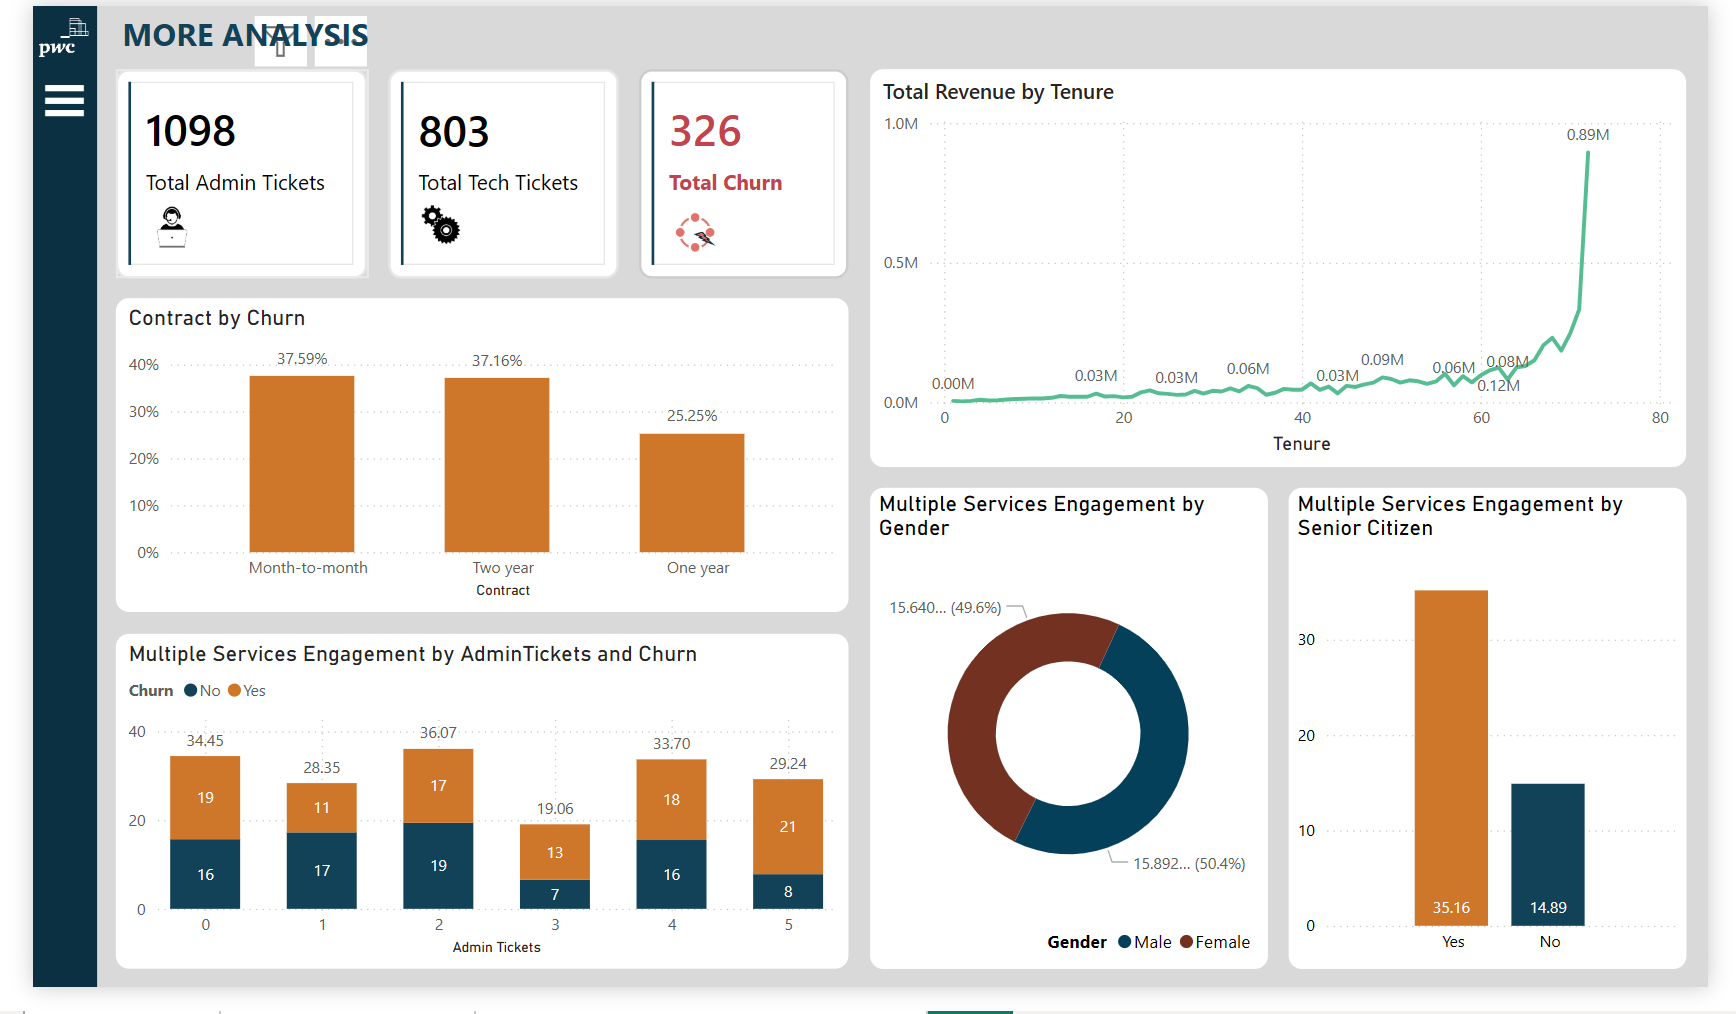

What the dashboard file says about the page in this screenshot:
{"tool":"powerbi","page":{"name":"More Analysis","canvas":[1280,750],"ordinal":1},"visuals":[{"type":"donutChart","title":"Multiple Services Engagement by Gender","fields":{"Category":["Churn Dataset.Gender"],"Y":["Churn Dataset.Multiple Services Engagement"]},"box":[640,368,304,368],"z":0},{"type":"columnChart","title":"Multiple Services Engagement by Senior Citizen ","fields":{"Y":["Churn Dataset.Multiple Services Engagement"],"Category":["Churn Dataset.SeniorCitizen"]},"box":[960,368,304,368],"z":1000},{"type":"lineChart","title":"Total Revenue by Tenure","fields":{"Category":["Churn Dataset.Tenure"],"Y":["Sum(Churn Dataset.TotalCharges)"]},"box":[640,48,624,304],"z":2000},{"type":"cardVisual","fields":{"Data":["Sum(Churn Dataset.AdminTickets)"]},"box":[64,48,192,160],"z":3000},{"type":"cardVisual","fields":{"Data":["Sum(Churn Dataset.TechTickets)"]},"box":[272,48,176,160],"z":4000},{"type":"columnChart","fields":{"Y":["Churn Dataset.Multiple Services Engagement"],"Category":["Churn Dataset.AdminTickets"],"Series":["Churn Dataset.Churn"]},"box":[64,480,560,256],"z":5000},{"type":"columnChart","title":"Contract by Churn","fields":{"Y":["CountNonNull(Churn Dataset.Churn)"],"Category":["Churn Dataset.Contract"]},"box":[64,224,560,240],"z":6000},{"type":"cardVisual","fields":{"Data":["Churn Dataset.Total Churn"]},"box":[464,48,160,160],"z":7000},{"type":"textbox","box":[64,0,224,48],"z":8000},{"type":"image","title":"Menu Open","box":[0,48,48,48],"z":10000}]}

Visuals, with their boxes on the page's 1280x750 design canvas (x1, y1, x2, y2). These are canvas units, not pixel positions in the 1736x1014 screenshot, which may show the page scaled, cropped or inside an application window:
"Multiple Services Engagement by Gender" donutChart: select_region(640, 368, 944, 736)
"Multiple Services Engagement by Senior Citizen " columnChart: select_region(960, 368, 1264, 736)
"Total Revenue by Tenure" lineChart: select_region(640, 48, 1264, 352)
cardVisual - Sum(Churn Dataset.AdminTickets): select_region(64, 48, 256, 208)
cardVisual - Sum(Churn Dataset.TechTickets): select_region(272, 48, 448, 208)
columnChart - Churn Dataset.Multiple Services Engagement x Churn Dataset.AdminTickets: select_region(64, 480, 624, 736)
"Contract by Churn" columnChart: select_region(64, 224, 624, 464)
cardVisual - Churn Dataset.Total Churn: select_region(464, 48, 624, 208)
textbox: select_region(64, 0, 288, 48)
"Menu Open" image: select_region(0, 48, 48, 96)
